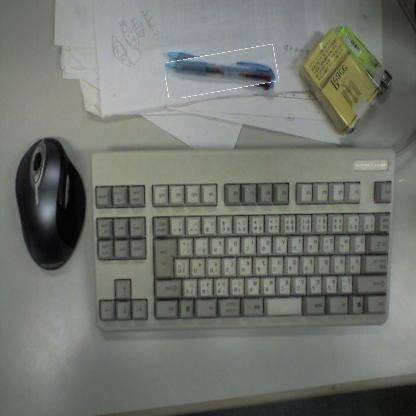Pen: (165, 49, 278, 94)
